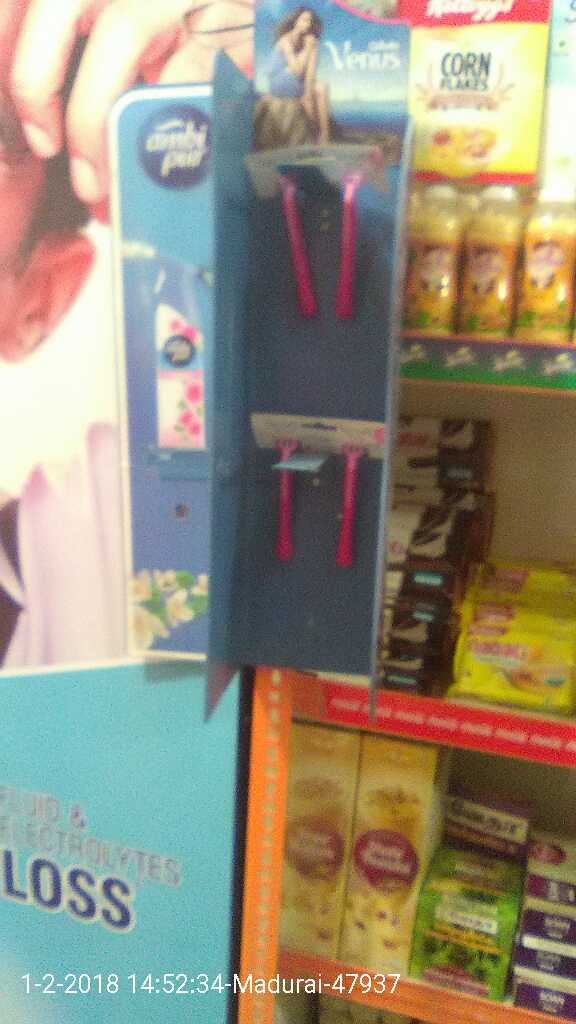reject: (259, 394, 498, 739)
